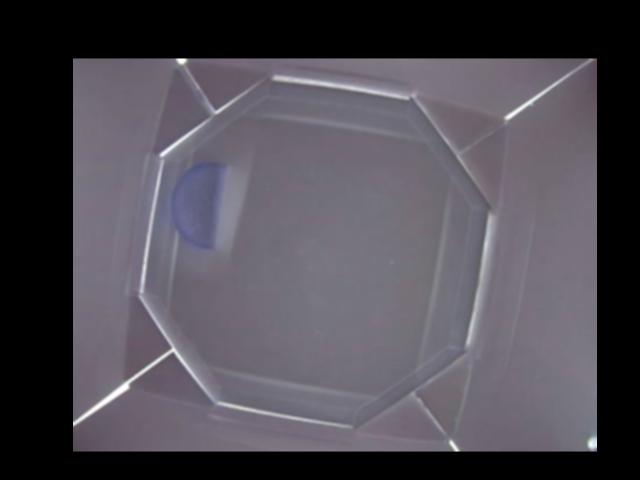Mooli: (167, 163, 230, 247)
